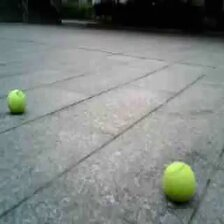tennis: (162, 162, 196, 202), (7, 90, 26, 113)
